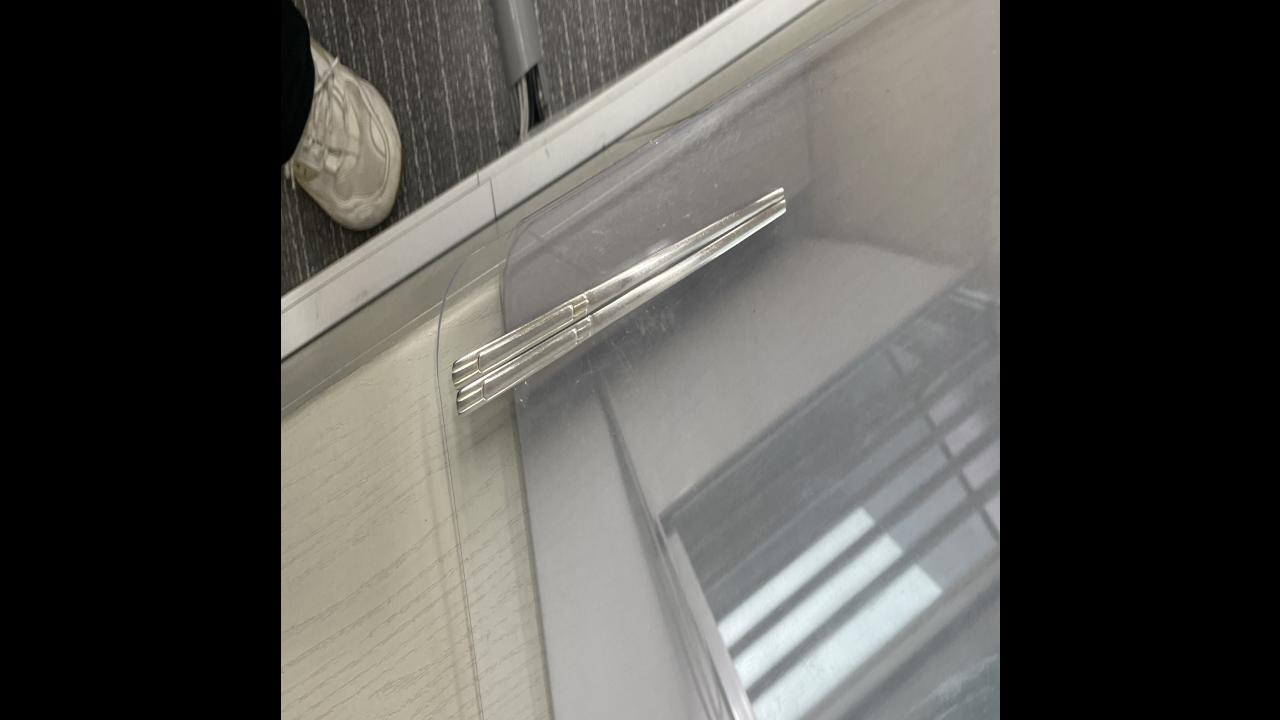chopstick: (449, 184, 787, 420)
